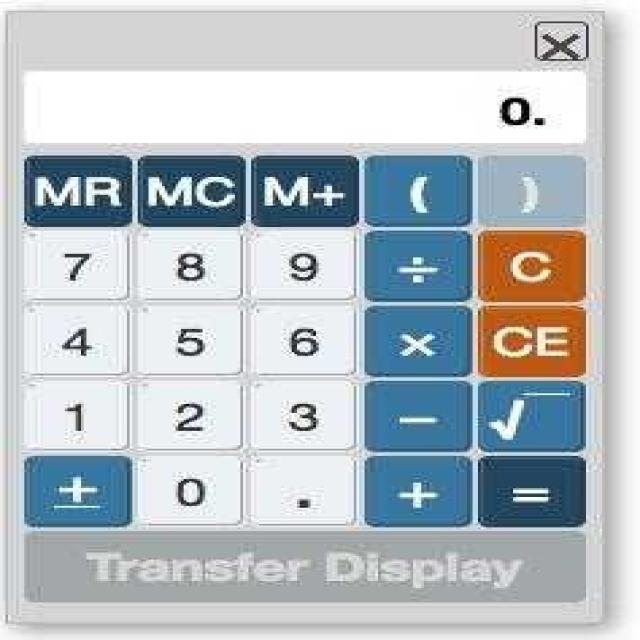Calculator: (0, 2, 608, 627)
